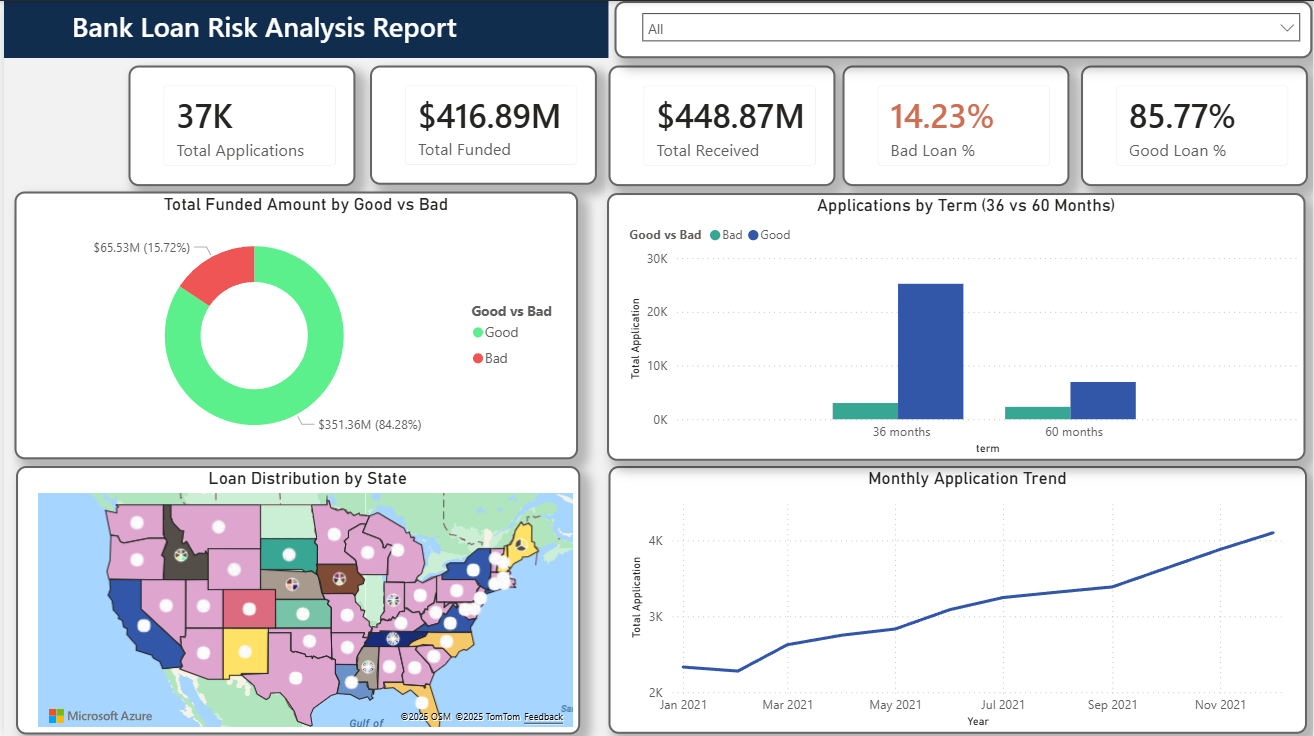

Layout of this report page (visuals, bound fields, positions):
{"tool":"powerbi","page":{"name":"Page 1","canvas":[1280,720],"ordinal":0},"visuals":[{"type":"cardVisual","fields":{"Data":["_Measures.Total Application"]},"box":[122.5,63.3,222.3,117.8],"z":0},{"type":"cardVisual","fields":{"Data":["_Measures.Total Funded Amount"]},"box":[358.1,63.3,222.3,116.4],"z":1000},{"type":"cardVisual","fields":{"Data":["_Measures.Total Amount Received"]},"box":[590.9,63.3,222.3,117.8],"z":2000},{"type":"cardVisual","fields":{"Data":["_Measures.Bad Loan %"]},"box":[820.6,63.3,222.3,117.8],"z":3000},{"type":"cardVisual","fields":{"Data":["_Measures.Good Loan %"]},"box":[1053.3,63.3,222,117.8],"z":4000},{"type":"donutChart","fields":{"Category":["Sheet1.Good vs Bad"],"Y":["_Measures.Total Funded Amount"]},"box":[10.8,185.7,551,262],"z":5000},{"type":"lineChart","title":"Monthly Application Trend","fields":{"Y":["_Measures.Total Application"],"Category":["Sheet1.issue_date.Variation.Date Hierarchy.Year","Sheet1.issue_date.Variation.Date Hierarchy.Quarter","Sheet1.issue_date.Variation.Date Hierarchy.Month"]},"box":[590.7,455,683.2,262],"z":6000},{"type":"azureMap","title":"Loan Distribution by State","fields":{"Category":["Sheet1.address_state"],"Series":["Sheet1.loan_amount"]},"box":[11.9,455,551.9,262.5],"z":7000},{"type":"clusteredColumnChart","title":"Applications by Term (36 vs 60 Months)","fields":{"Category":["Sheet1.term"],"Y":["_Measures.Total Application"],"Series":["Sheet1.Good vs Bad"]},"box":[590.5,187.2,683.2,262],"z":8000},{"type":"slicer","fields":{"Values":["Sheet1.Grade"]},"box":[597.2,0,682.4,55.8],"z":9000},{"type":"shape","box":[0,0,591.4,55.8],"z":10001},{"type":"textbox","box":[24.9,1.5,469.6,51.4],"z":10501}]}

Visuals, with their boxes in screenshot pixels (x1, y1, x2, y2), scaled from the page's 1280x720 canvas onto the 1314x736 screenshot:
cardVisual - _Measures.Total Application: [126, 65, 354, 185]
cardVisual - _Measures.Total Funded Amount: [368, 65, 596, 184]
cardVisual - _Measures.Total Amount Received: [607, 65, 835, 185]
cardVisual - _Measures.Bad Loan %: [842, 65, 1071, 185]
cardVisual - _Measures.Good Loan %: [1081, 65, 1309, 185]
donutChart - Sheet1.Good vs Bad x _Measures.Total Funded Amount: [11, 190, 577, 458]
"Monthly Application Trend" lineChart: [606, 465, 1308, 733]
"Loan Distribution by State" azureMap: [12, 465, 579, 733]
"Applications by Term (36 vs 60 Months)" clusteredColumnChart: [606, 191, 1308, 459]
slicer - Sheet1.Grade: [613, 0, 1313, 57]
shape: [0, 0, 607, 57]
textbox: [26, 2, 508, 54]
